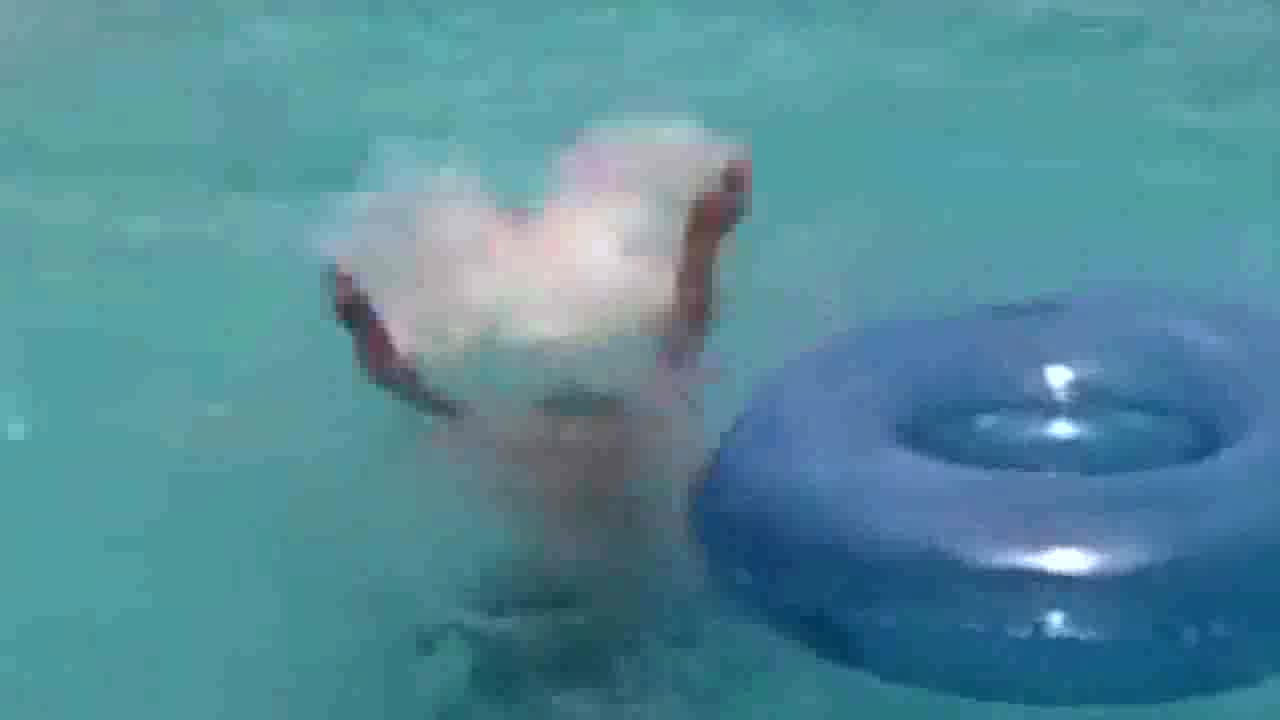Drowning: (309, 154, 755, 589)
